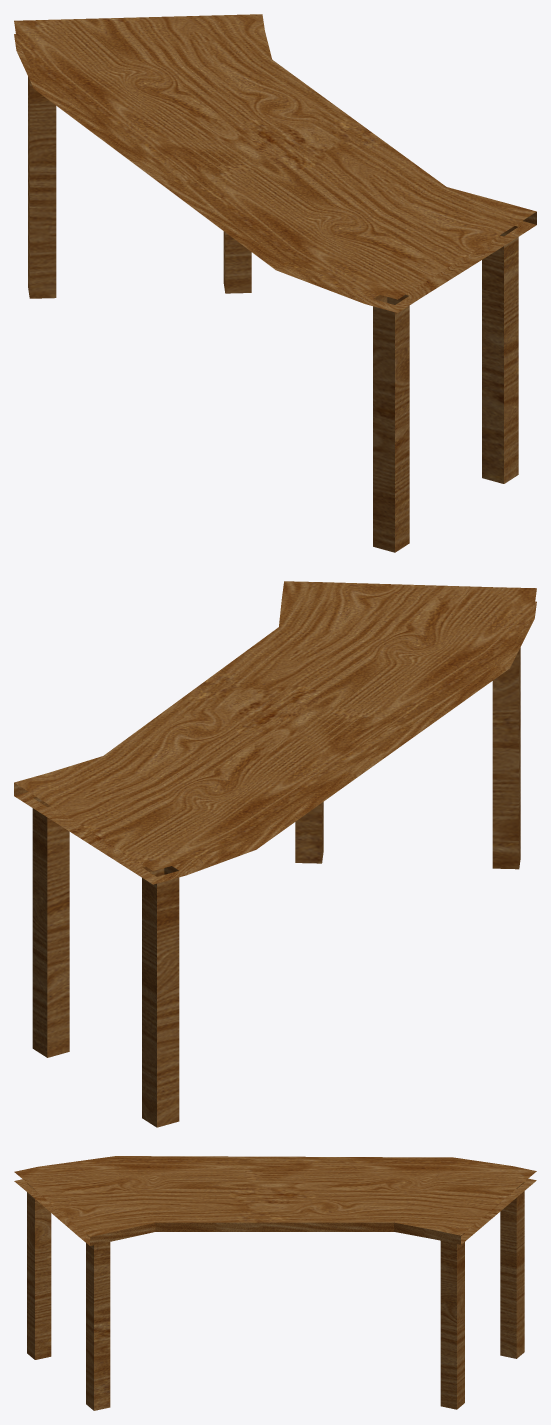
Rendered from Research Table.fbx.
3 views of the same model, one above another, from view 1: azimuth 30°, elevation 25°; view 2: azimuth 150°, elevation 25°; view 3: azimuth 270°, elevation 25° (orthographic). The views are drawn at different scales.
Parts seen in each view (by area): view 1: Upgrade_Table1:Upgrade_Table; view 2: Upgrade_Table1:Upgrade_Table; view 3: Upgrade_Table1:Upgrade_Table.
Boxes of the visible parts, <box> form: Upgrade_Table1:Upgrade_Table: <box>14,14,536,552</box>; Upgrade_Table1:Upgrade_Table: <box>14,581,536,1127</box>; Upgrade_Table1:Upgrade_Table: <box>14,1156,536,1410</box>.
Size of the model in its own units: 0.766 by 0.7908 by 2.09.
